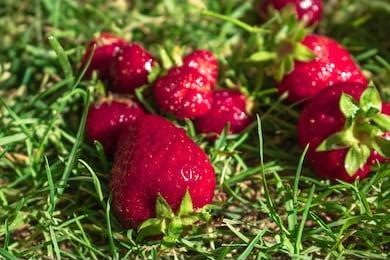Fresa: (102, 111, 226, 246), (289, 76, 390, 188), (270, 26, 381, 114)
